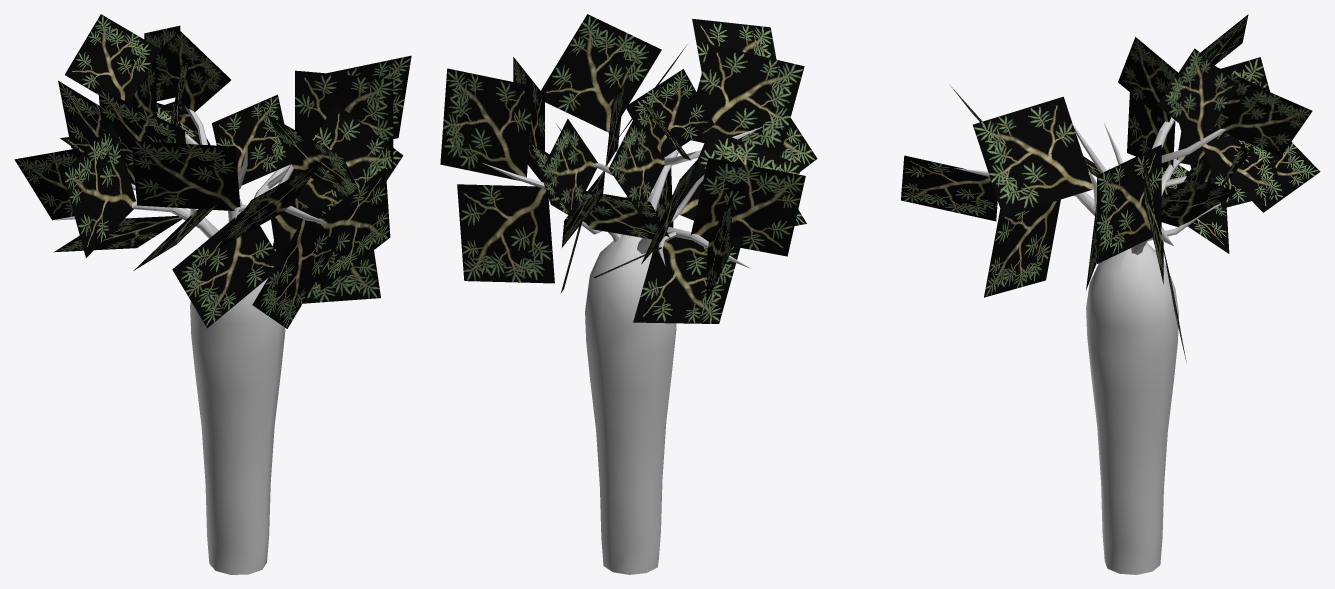
Rendered from pac_LOD0.fbx.
3 renders of one model, left to right at view 1: azimuth 30°, elevation 25°; view 2: azimuth 150°, elevation 25°; view 3: azimuth 270°, elevation 25°, orthographic. The views are drawn at different scales.
Visible parts, largest first — view 1: Mesh Object; view 2: Mesh Object; view 3: Mesh Object.
Part boxes in pixels (x1=…): Mesh Object: x1=14, y1=14, x2=411, y2=574; Mesh Object: x1=440, y1=14, x2=817, y2=574; Mesh Object: x1=901, y1=14, x2=1320, y2=574.
Size of the model in its own units: 6.21 by 8.92 by 7.35.
